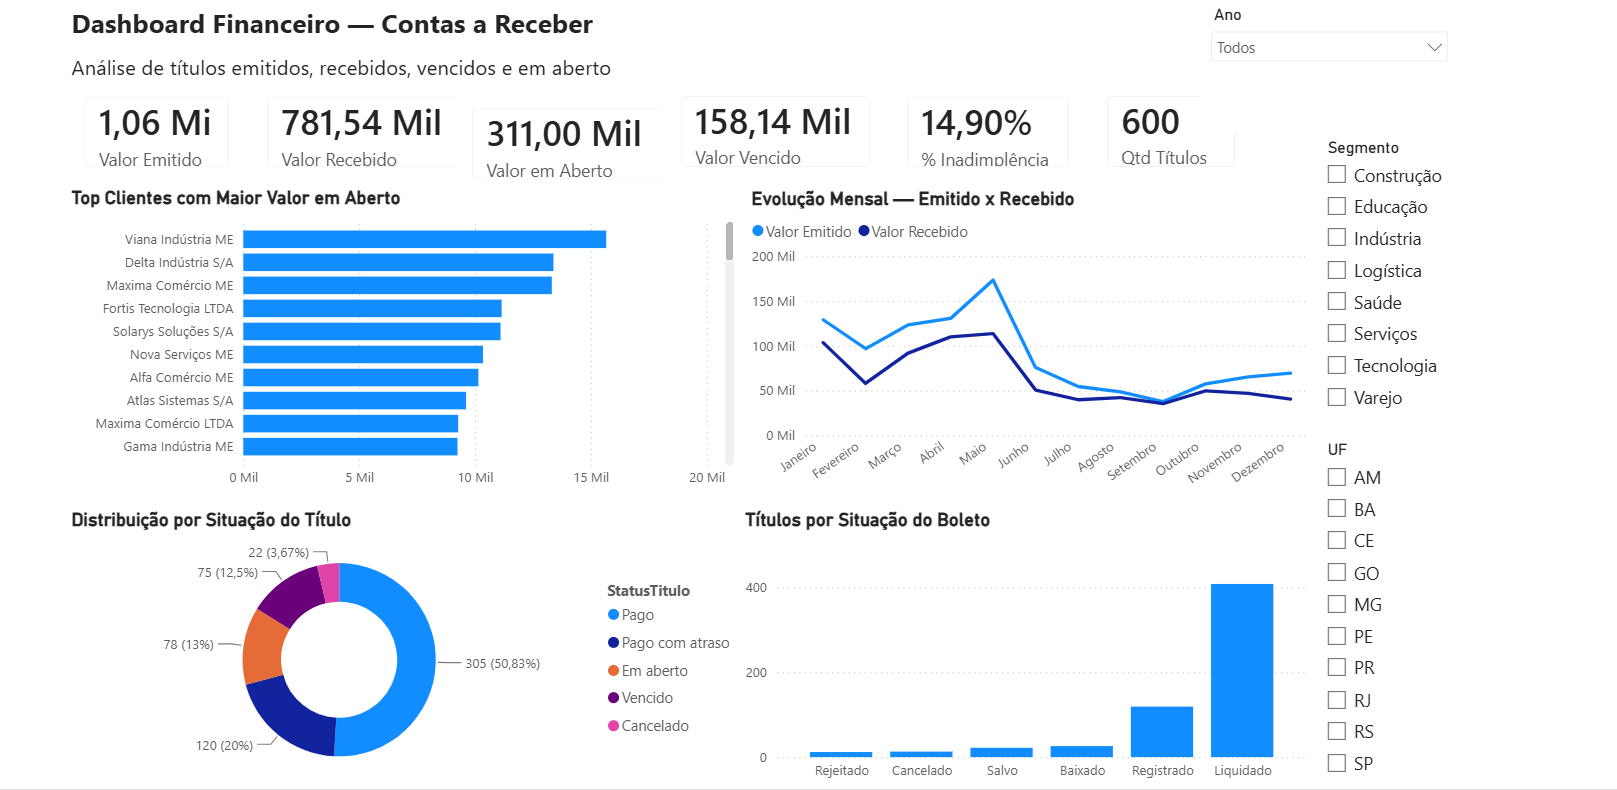

This screenshot's page, from the dashboard's own definition file:
{"tool":"powerbi","page":{"name":"Visão Geral","canvas":[1280,720],"ordinal":0},"visuals":[{"type":"textbox","box":[9.6,0,487.1,43.9],"z":0},{"type":"textbox","box":[9.6,43.9,506.3,38.4],"z":1000},{"type":"cardVisual","fields":{"Data":["Tabela_Medidas.Valor Emitido"]},"box":[9.6,71.4,166,98.8],"z":2000},{"type":"cardVisual","fields":{"Data":["Tabela_Medidas.Valor Recebido"]},"box":[175.6,71.4,220.9,98.8],"z":3000},{"type":"cardVisual","fields":{"Data":["Tabela_Medidas.Valor em Aberto"]},"box":[363.1,71.3,212.5,99.5],"z":4000},{"type":"cardVisual","fields":{"Data":["Tabela_Medidas.% Inadimplência"]},"box":[759.8,60.5,182.9,99.5],"z":5000},{"type":"cardVisual","fields":{"Data":["Tabela_Medidas.Qtd Títulos"]},"box":[942.7,71.3,152,99.5],"z":6000},{"type":"cardVisual","fields":{"Data":["Tabela_Medidas.Valor Vencido"]},"box":[552.7,60.5,207.1,99.5],"z":7000},{"type":"lineChart","title":"Evolução Mensal — Emitido x Recebido","fields":{"Y":["Tabela_Medidas.Valor Emitido","Tabela_Medidas.Valor Recebido"],"Category":["tbDimCalendario.MesNome"]},"box":[629.4,170.8,517.8,293.2],"z":8000},{"type":"barChart","title":"Top Clientes com Maior Valor em Aberto","fields":{"Category":["tbDimClientes.Cliente"],"Y":["Tabela_Medidas.Valor em Aberto"]},"box":[9.6,170.2,614.8,284],"z":9000},{"type":"donutChart","title":"Distribuição por Situação do Título","fields":{"Category":["tbFatoTitulos.StatusTitulo"],"Y":["Tabela_Medidas.Qtd Títulos"]},"box":[9.4,464,620,256.9],"z":10000},{"type":"columnChart","title":"Títulos por Situação do Boleto","fields":{"Category":["tbFatoTitulos.SituacaoBoleto"],"Y":["Tabela_Medidas.Qtd Títulos"]},"box":[624,464,523.1,256.9],"z":11000},{"type":"slicer","fields":{"Values":["tbDimClientes.Segmento"]},"box":[1147.1,121,133.1,264.9],"z":12000},{"type":"slicer","fields":{"Values":["tbDimCalendario.Ano"]},"box":[1043.6,0,236.7,121],"z":13000},{"type":"slicer","fields":{"Values":["tbDimClientes.UF"]},"box":[1147.1,396.7,133.1,322.8],"z":14000}]}

Visuals, with their boxes on the page's 1280x720 design canvas (x1, y1, x2, y2). These are canvas units, not pixel positions in the 1617x790 screenshot, which may show the page scaled, cropped or inside an application window:
textbox: 10:0:497:44
textbox: 10:44:516:82
cardVisual - Tabela_Medidas.Valor Emitido: 10:71:176:170
cardVisual - Tabela_Medidas.Valor Recebido: 176:71:396:170
cardVisual - Tabela_Medidas.Valor em Aberto: 363:71:576:171
cardVisual - Tabela_Medidas.% Inadimplência: 760:60:943:160
cardVisual - Tabela_Medidas.Qtd Títulos: 943:71:1095:171
cardVisual - Tabela_Medidas.Valor Vencido: 553:60:760:160
"Evolução Mensal — Emitido x Recebido" lineChart: 629:171:1147:464
"Top Clientes com Maior Valor em Aberto" barChart: 10:170:624:454
"Distribuição por Situação do Título" donutChart: 9:464:629:721
"Títulos por Situação do Boleto" columnChart: 624:464:1147:721
slicer - tbDimClientes.Segmento: 1147:121:1280:386
slicer - tbDimCalendario.Ano: 1044:0:1280:121
slicer - tbDimClientes.UF: 1147:397:1280:720
